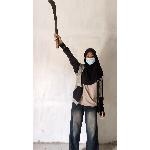Golok: (40, 0, 68, 54)
